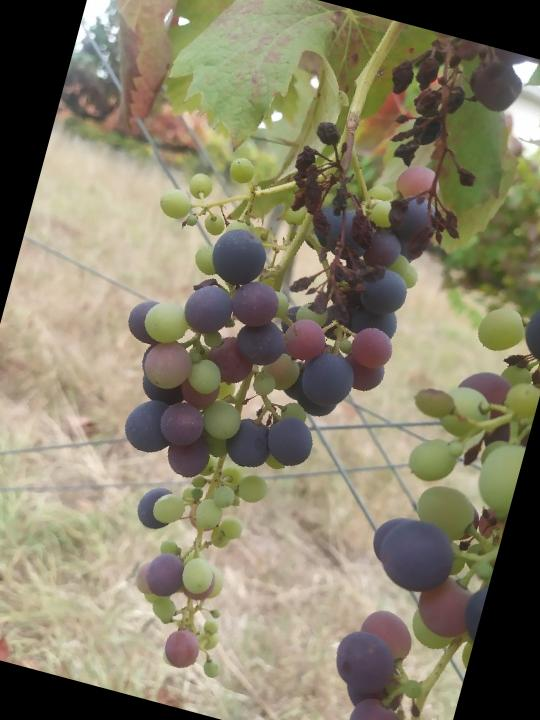grape: (41, 86, 453, 706), (346, 28, 534, 280)
